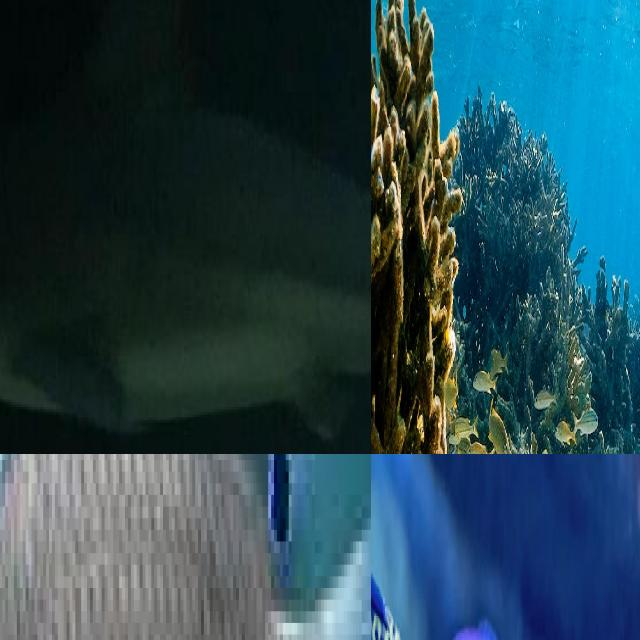fish: (0, 0, 371, 454), (0, 454, 371, 640), (371, 305, 640, 454), (371, 454, 438, 640)
